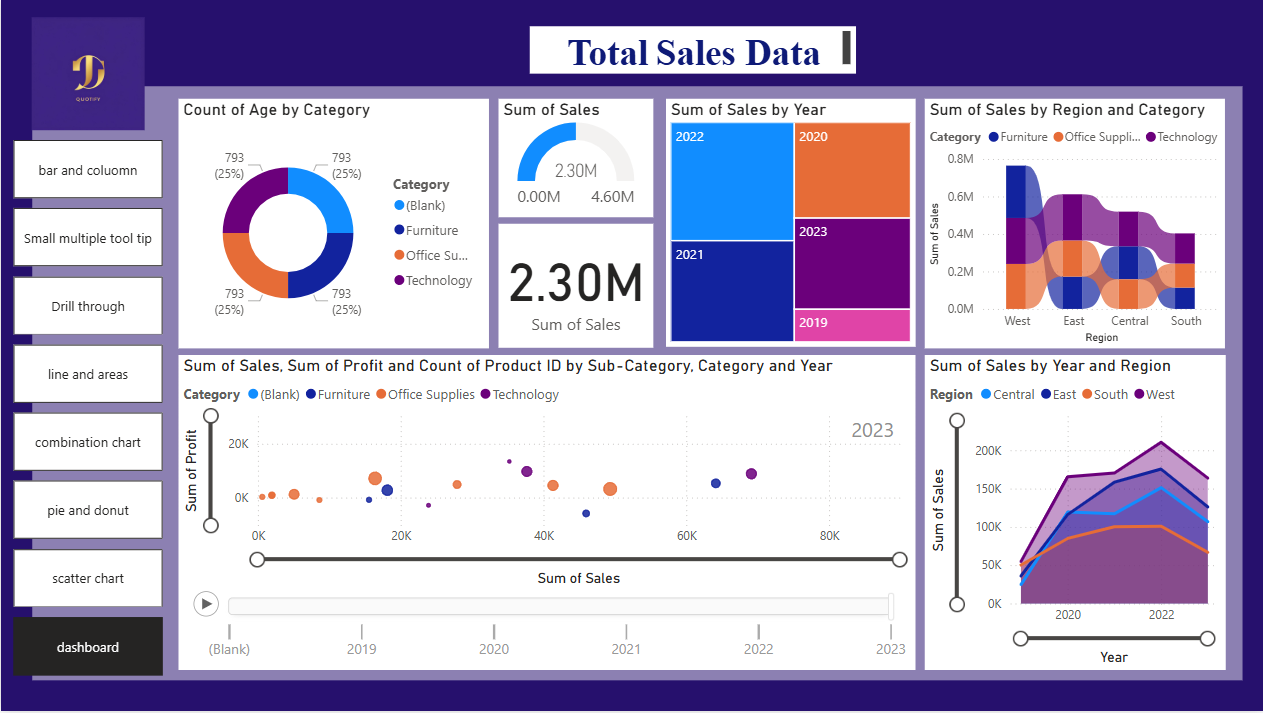

What the dashboard file says about the page in this screenshot:
{"tool":"powerbi","page":{"name":"dashboard","canvas":[1280,720],"ordinal":7},"visuals":[{"type":"textbox","box":[31.4,87.1,1225.7,601.4],"z":0},{"type":"image","box":[12.9,12.9,151.4,124.3],"z":1000},{"type":"textbox","box":[535.1,27,744.6,48.6],"z":2000},{"type":"donutChart","fields":{"Category":["product data.Category"],"Y":["CountNonNull(Customer Data.Age)"]},"box":[180,100,314.3,252.9],"z":3000},{"type":"scatterChart","fields":{"Category":["product data.Sub-Category"],"X":["Sum(total sales.Sales)"],"Series":["product data.Category"],"Y":["Sum(total sales.Profit)"],"Size":["CountNonNull(total sales.Product ID)"],"Play":["total sales.Order Date.Variation.Date Hierarchy.Year"]},"box":[180,360,745.7,318.6],"z":4000},{"type":"areaChart","fields":{"Category":["total sales.Order Date.Variation.Date Hierarchy.Year","total sales.Order Date.Variation.Date Hierarchy.Quarter","total sales.Order Date.Variation.Date Hierarchy.Month","total sales.Order Date.Variation.Date Hierarchy.Day"],"Y":["Sum(total sales.Sales)"],"Series":["Customer Data.Region"]},"box":[935.7,360,304.3,318.6],"z":5000},{"type":"ribbonChart","fields":{"Category":["Customer Data.Region"],"Y":["Sum(total sales.Sales)"],"Series":["product data.Category"]},"box":[935.7,100,304.3,252.9],"z":6000},{"type":"card","fields":{"Values":["Sum(total sales.Sales)"]},"box":[504.3,227.1,157.1,125.7],"z":7000},{"type":"gauge","fields":{"Y":["Sum(total sales.Sales)"]},"box":[504.3,100,157.1,120],"z":8000},{"type":"treemap","fields":{"Group":["total sales.Order Date.Variation.Date Hierarchy.Year","total sales.Order Date.Variation.Date Hierarchy.Quarter","total sales.Order Date.Variation.Date Hierarchy.Month","total sales.Order Date.Variation.Date Hierarchy.Day","Customer Data.Region"],"Values":["Sum(total sales.Sales)"]},"box":[672.9,100,252.9,251.4],"z":9000},{"type":"pageNavigator","box":[12.9,141.4,151.4,547.1],"z":10000}]}

Visuals, with their boxes on the page's 1280x720 design canvas (x1, y1, x2, y2). These are canvas units, not pixel positions in the 1263x713 screenshot, which may show the page scaled, cropped or inside an application window:
textbox: 31,87,1257,688
image: 13,13,164,137
textbox: 535,27,1280,76
donutChart - product data.Category x CountNonNull(Customer Data.Age): 180,100,494,353
scatterChart - product data.Sub-Category x Sum(total sales.Sales): 180,360,926,679
areaChart - total sales.Order Date.Variation.Date Hierarchy.Year x total sales.Order Date.Variation.Date Hierarchy.Quarter: 936,360,1240,679
ribbonChart - Customer Data.Region x Sum(total sales.Sales): 936,100,1240,353
card - Sum(total sales.Sales): 504,227,661,353
gauge - Sum(total sales.Sales): 504,100,661,220
treemap - total sales.Order Date.Variation.Date Hierarchy.Year x total sales.Order Date.Variation.Date Hierarchy.Quarter: 673,100,926,351
pageNavigator: 13,141,164,688
